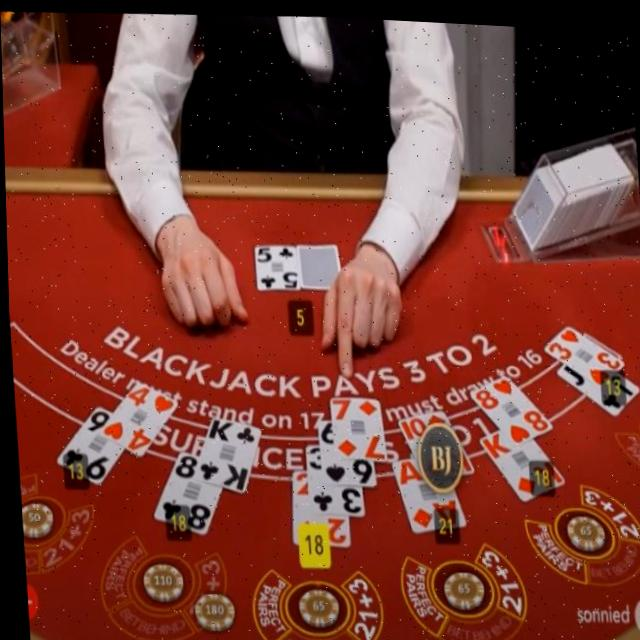Card-10: (395, 405, 472, 475)
Card-2: (289, 467, 347, 544)
Card-3: (542, 318, 622, 383), (303, 442, 361, 511)
Card-4: (98, 380, 175, 455)
Card-5: (253, 239, 298, 286)
Card-6: (316, 416, 373, 481)
Card-7: (328, 395, 383, 457)
Card-8: (467, 369, 550, 441), (151, 448, 218, 534)
Card-9: (54, 402, 121, 485)
Card-A: (389, 454, 464, 530)
Card-J: (554, 357, 637, 409)
Card-K: (476, 424, 562, 495), (191, 414, 258, 490)
